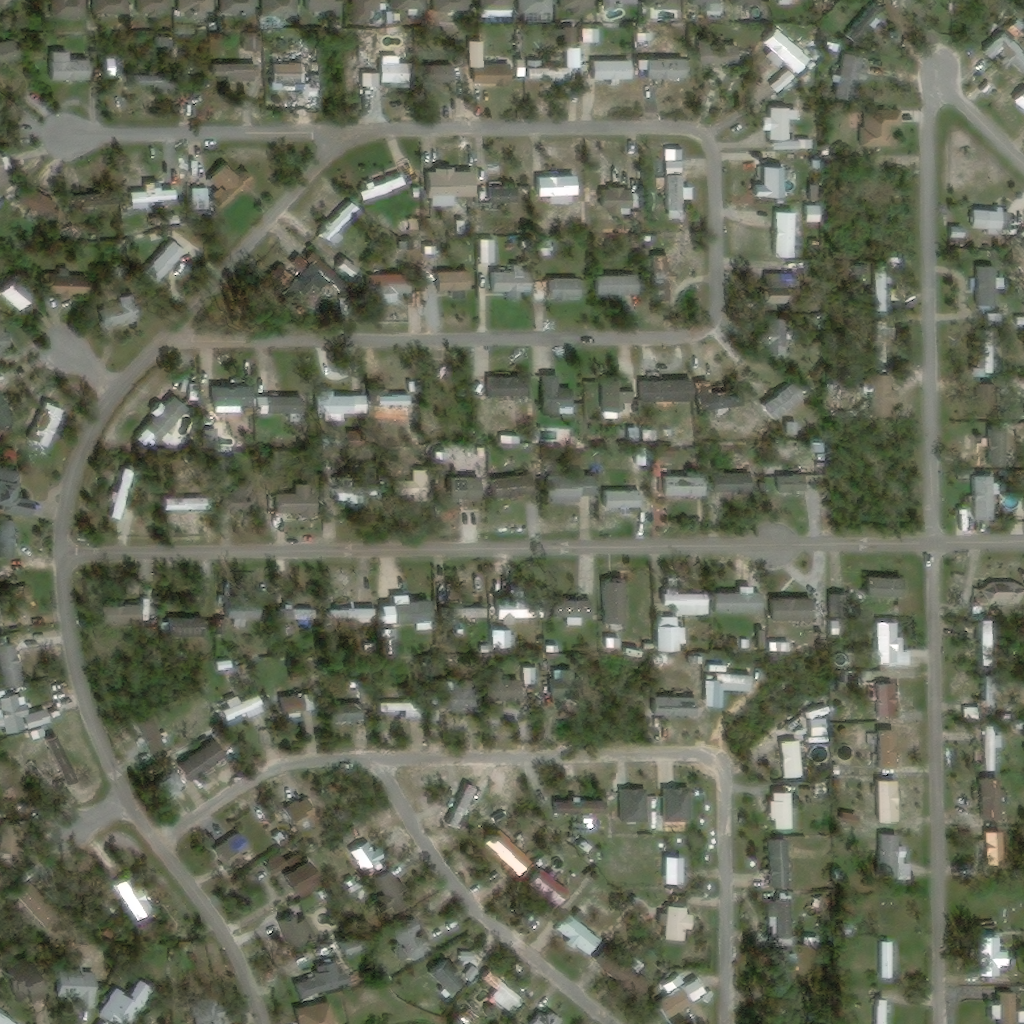major_damage: (272, 48, 322, 112), (371, 389, 412, 410), (971, 385, 988, 421), (400, 163, 420, 185)
minor_damage: (255, 253, 346, 307), (136, 397, 190, 448), (656, 151, 692, 222), (879, 835, 912, 880), (715, 586, 763, 615), (260, 396, 306, 424), (863, 574, 903, 605), (497, 601, 544, 625), (275, 797, 312, 827), (769, 599, 813, 621), (553, 600, 590, 626), (435, 477, 483, 497), (490, 476, 532, 498), (664, 476, 706, 496), (213, 386, 254, 406), (875, 683, 897, 718), (189, 163, 210, 199), (654, 256, 670, 301), (878, 730, 896, 770), (982, 430, 999, 470), (327, 490, 370, 505), (527, 1007, 564, 1023), (275, 606, 309, 619), (324, 500, 331, 526), (264, 376, 272, 392)
no_damage: (0, 689, 62, 741), (295, 956, 363, 1002), (589, 948, 646, 996), (96, 980, 154, 1023), (267, 852, 321, 897), (765, 28, 813, 75), (4, 955, 48, 1006), (485, 830, 532, 877), (16, 884, 60, 930), (469, 40, 511, 88), (211, 165, 255, 208), (180, 740, 227, 780), (425, 168, 474, 206), (871, 623, 912, 668), (982, 31, 1023, 76), (755, 839, 791, 890), (528, 46, 582, 80), (0, 466, 36, 515), (320, 202, 360, 246), (965, 206, 1023, 236), (829, 53, 865, 101), (367, 271, 416, 306), (381, 596, 431, 630), (694, 381, 742, 416), (557, 914, 599, 954), (393, 920, 433, 962), (373, 865, 412, 908), (59, 966, 97, 1010), (658, 897, 692, 946), (113, 875, 150, 920), (761, 383, 803, 421), (147, 239, 186, 279), (527, 869, 567, 908), (205, 830, 243, 871), (702, 674, 749, 707), (30, 402, 64, 447), (483, 971, 522, 1010), (547, 470, 593, 503), (847, 2, 884, 43), (860, 112, 901, 149), (663, 586, 710, 618), (317, 391, 367, 421), (47, 736, 77, 786), (540, 375, 575, 417), (861, 375, 895, 418), (491, 266, 533, 300), (597, 381, 631, 422), (99, 294, 139, 328), (94, 596, 140, 625), (275, 485, 313, 520), (427, 680, 472, 709), (184, 992, 226, 1023), (766, 892, 791, 944), (970, 268, 1005, 305), (449, 783, 477, 829), (979, 936, 1009, 978), (41, 269, 86, 297), (763, 108, 798, 143), (1, 273, 34, 310), (50, 51, 90, 81), (111, 467, 134, 519), (537, 176, 578, 205), (16, 184, 53, 216), (360, 176, 405, 202), (132, 183, 177, 209), (432, 270, 472, 299), (431, 961, 466, 994), (0, 587, 35, 620), (601, 187, 639, 217), (977, 726, 1002, 771), (639, 382, 690, 404), (760, 316, 791, 352), (392, 470, 428, 501), (278, 914, 314, 945), (222, 694, 263, 721), (696, 38, 742, 62), (0, 644, 24, 690), (483, 671, 521, 700), (602, 579, 623, 631), (0, 765, 26, 807), (659, 986, 693, 1018), (653, 787, 685, 821), (536, 280, 581, 304), (348, 841, 381, 873), (228, 596, 261, 628), (656, 618, 687, 652), (981, 583, 1023, 608), (994, 885, 1020, 925), (762, 272, 796, 302), (637, 58, 688, 78), (380, 56, 410, 89), (875, 780, 898, 822), (138, 716, 165, 751), (550, 670, 583, 698), (479, 182, 517, 206), (973, 477, 993, 522), (712, 473, 757, 493), (614, 788, 641, 821), (591, 61, 633, 82), (47, 0, 87, 22), (753, 167, 783, 196), (864, 894, 890, 927), (659, 855, 685, 888), (776, 212, 795, 257), (598, 275, 640, 295), (974, 779, 994, 820), (488, 377, 529, 397), (259, 0, 300, 20), (653, 698, 696, 717), (123, 75, 174, 91), (280, 694, 314, 718), (771, 794, 793, 831), (440, 602, 485, 620), (296, 1002, 334, 1023), (982, 831, 1006, 864), (159, 618, 203, 636), (991, 992, 1016, 1023), (873, 264, 890, 309), (212, 65, 256, 82), (328, 602, 372, 619), (782, 742, 802, 779), (177, 0, 215, 19), (0, 393, 20, 429), (389, 0, 429, 18), (0, 154, 14, 204), (0, 826, 22, 857), (769, 70, 796, 95), (348, 0, 380, 21), (135, 0, 173, 17), (550, 800, 599, 813), (382, 703, 421, 719), (559, 0, 594, 17), (434, 0, 469, 17), (305, 0, 342, 16), (604, 491, 638, 508), (325, 704, 357, 722), (164, 497, 209, 509), (0, 522, 15, 558), (482, 0, 512, 17), (685, 979, 707, 1002), (489, 630, 514, 650), (772, 476, 801, 493), (982, 621, 993, 665), (1008, 89, 1023, 121), (421, 66, 449, 83), (476, 776, 495, 801), (881, 942, 893, 980), (828, 593, 846, 618), (0, 39, 19, 62), (520, 0, 553, 13), (219, 0, 254, 12), (92, 0, 124, 13), (604, 0, 638, 12), (871, 999, 888, 1023), (333, 258, 353, 278), (690, 0, 721, 12), (985, 678, 998, 706), (645, 0, 681, 10), (343, 937, 363, 955), (481, 240, 495, 264), (808, 719, 827, 736), (984, 342, 994, 374), (20, 866, 40, 882), (733, 0, 763, 10), (203, 429, 218, 449), (637, 28, 654, 45), (463, 966, 480, 983), (805, 207, 821, 224), (146, 216, 172, 226), (345, 879, 361, 895), (582, 30, 600, 44), (808, 184, 822, 202), (362, 74, 379, 87), (499, 435, 521, 445), (515, 59, 526, 79), (107, 57, 118, 76), (808, 314, 827, 325), (464, 1010, 480, 1023), (564, 28, 576, 45), (29, 729, 46, 741), (450, 47, 460, 67), (1012, 473, 1023, 491), (779, 0, 801, 9), (522, 667, 533, 684), (686, 657, 703, 668), (886, 289, 900, 302), (276, 832, 289, 846), (535, 248, 553, 258), (807, 443, 823, 454), (769, 644, 791, 652), (143, 598, 150, 623), (636, 450, 646, 467), (659, 447, 676, 457), (605, 638, 619, 650), (0, 1012, 15, 1023), (1014, 256, 1023, 274), (946, 227, 958, 240), (784, 423, 796, 436), (963, 708, 976, 720), (643, 430, 657, 441), (217, 661, 232, 671), (800, 935, 815, 944), (85, 204, 100, 213), (758, 629, 766, 645), (831, 623, 840, 637), (440, 988, 451, 999), (629, 428, 639, 440), (626, 641, 641, 649), (985, 315, 1000, 323), (184, 456, 198, 464), (458, 221, 466, 235), (426, 247, 438, 256), (219, 625, 228, 637), (520, 156, 527, 171), (288, 672, 301, 680), (0, 0, 12, 8), (476, 450, 486, 459), (977, 700, 986, 710), (264, 652, 273, 662), (434, 452, 445, 460), (546, 647, 558, 654), (399, 242, 406, 254), (760, 483, 768, 493), (663, 431, 672, 439), (412, 188, 419, 198), (1016, 319, 1023, 328), (1016, 725, 1023, 733), (84, 1013, 89, 1023), (740, 642, 747, 649), (349, 683, 356, 689), (646, 646, 654, 651), (566, 795, 572, 800)
